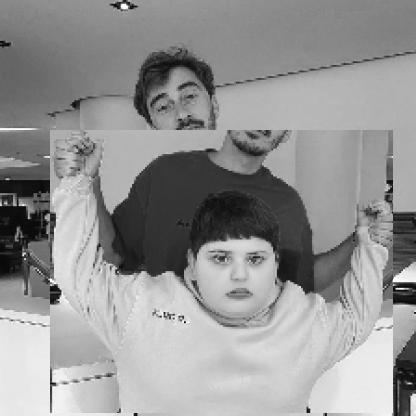child: (51, 131, 395, 415)
